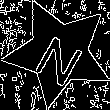N_NE: (28, 21, 89, 85)
